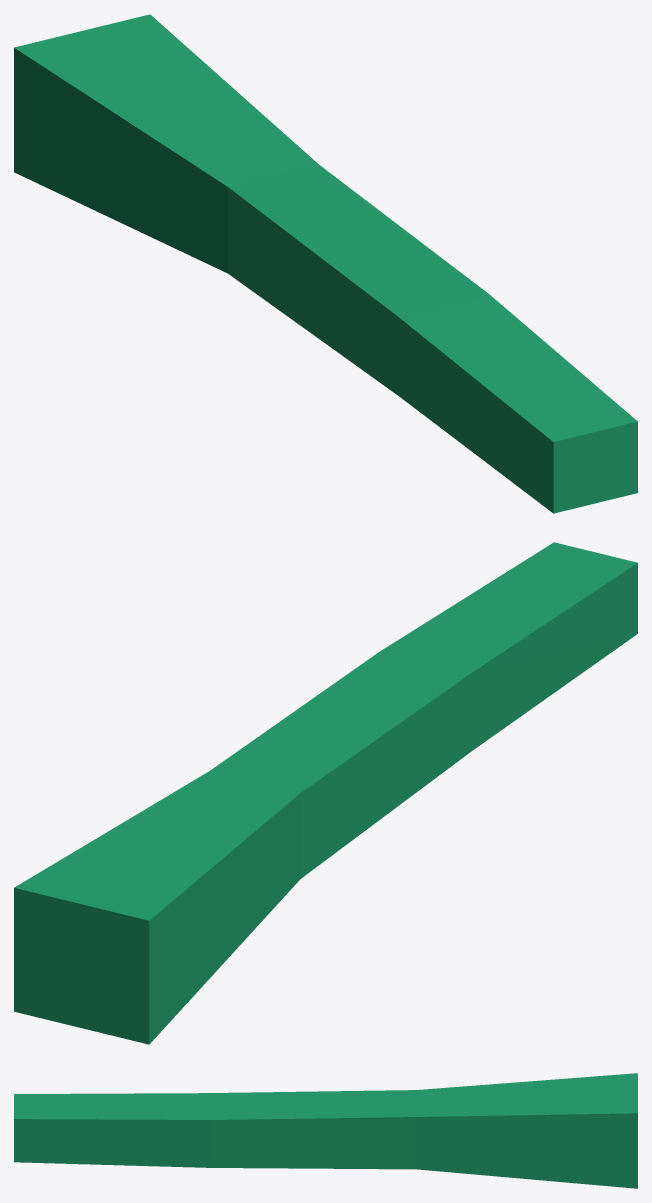
File: trop_Banana01.glb
3 renders of one model, top to bottom at view 1: azimuth 30°, elevation 25°; view 2: azimuth 150°, elevation 25°; view 3: azimuth 270°, elevation 25°, orthographic. The views are drawn at different scales.
Parts seen in each view (by area): view 1: geometry_0; view 2: geometry_0; view 3: geometry_0.
Boxes of the visible parts, <box> form: geometry_0: <box>14,14,637,513</box>; geometry_0: <box>14,542,637,1044</box>; geometry_0: <box>14,1073,637,1188</box>.
Bounding box in the file's own units: 4.58 × 4 × 30.
